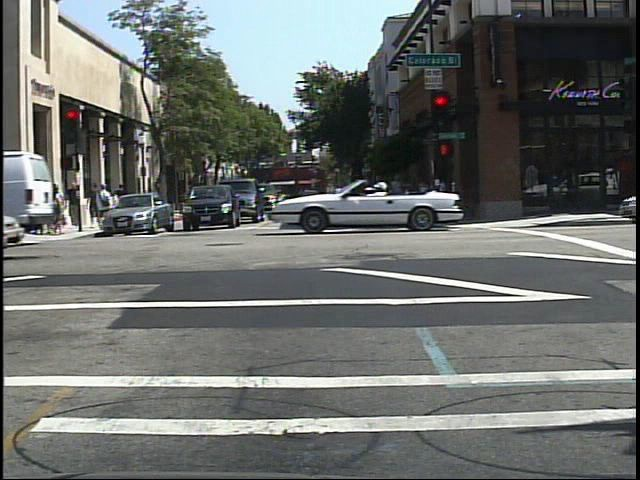person: (96, 179, 115, 226)
